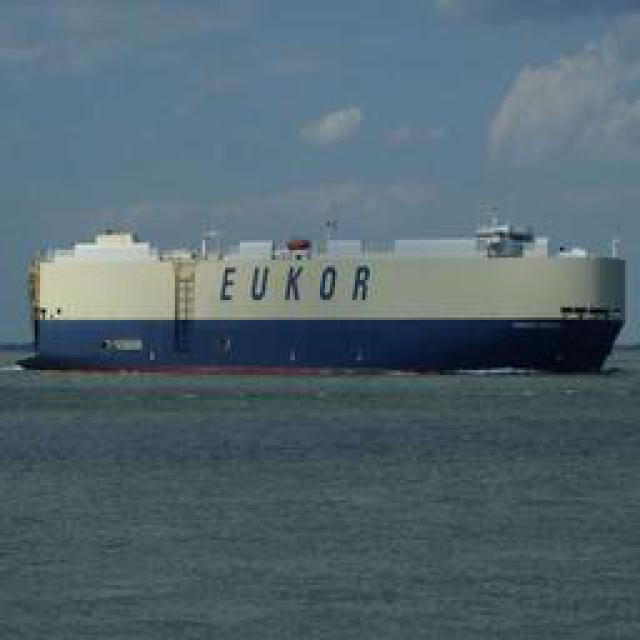Ship: (30, 208, 633, 373)
